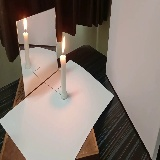fire: (61, 33, 66, 56)
